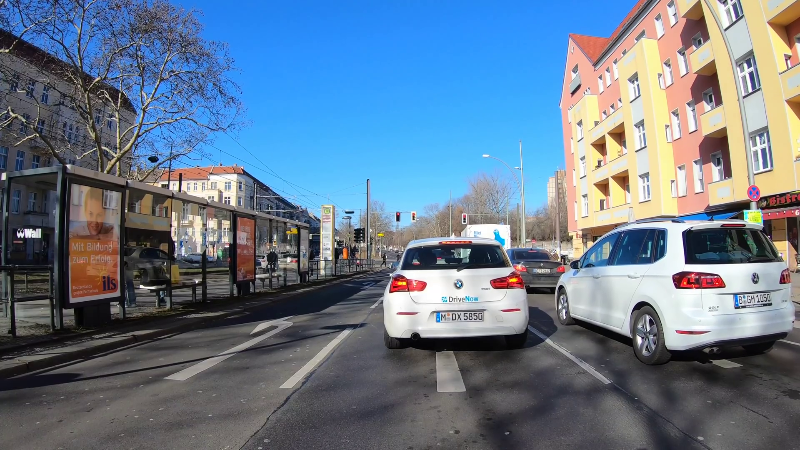Plate: (733, 289, 771, 306), (436, 309, 485, 321)
